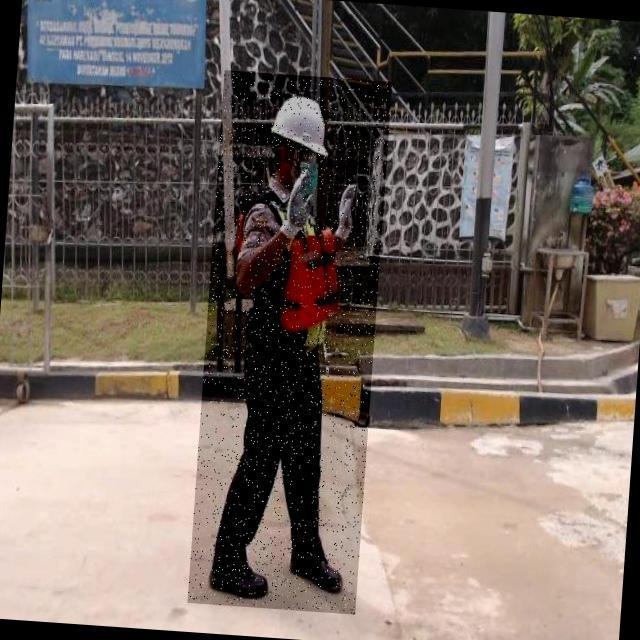Gloves: (273, 163, 320, 244), (328, 168, 368, 256)
Helmet: (265, 86, 338, 161)
Person: (164, 56, 404, 630)
Safety Boot: (284, 546, 350, 601), (204, 554, 271, 605)
Safety Vest: (224, 177, 354, 348)
